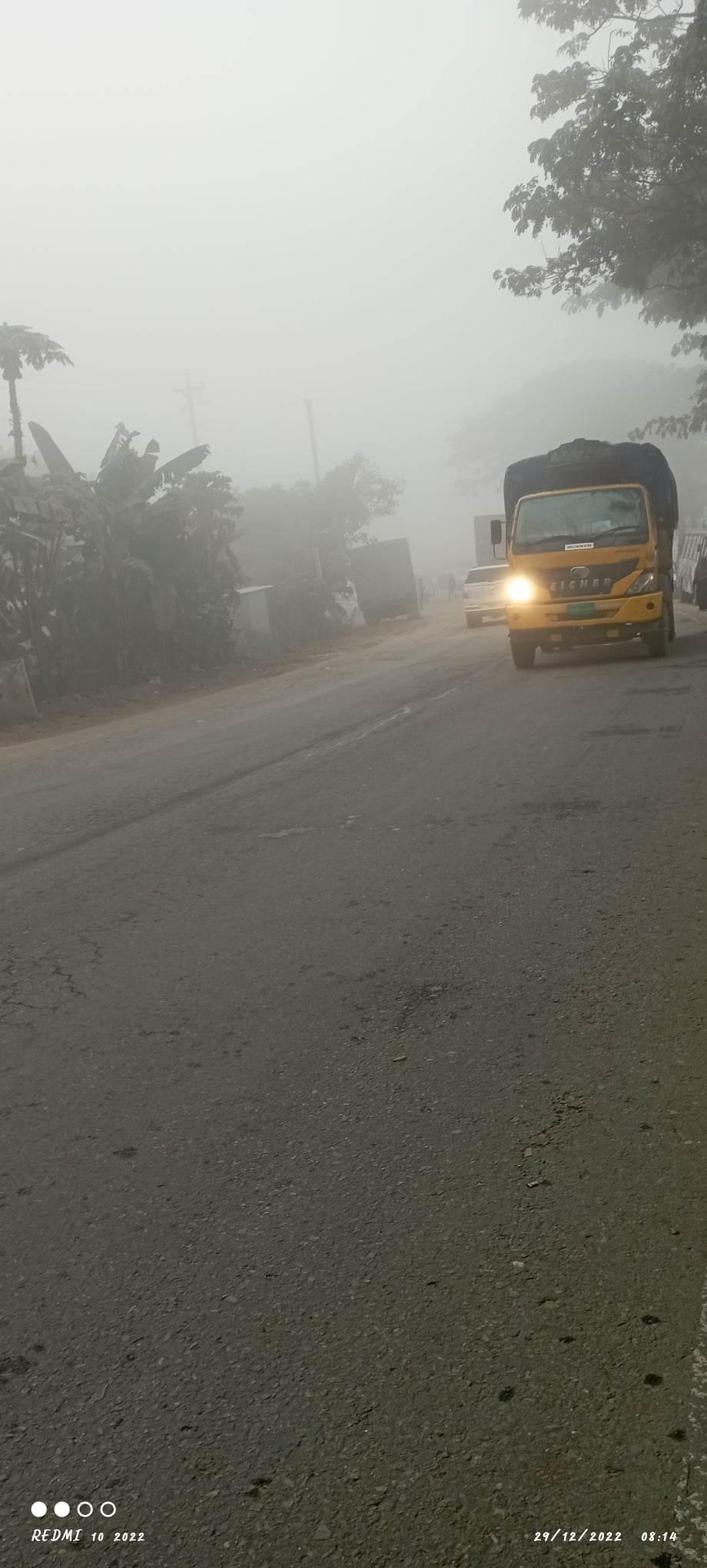Car: (441, 550, 526, 639)
Truck: (487, 427, 682, 668)
